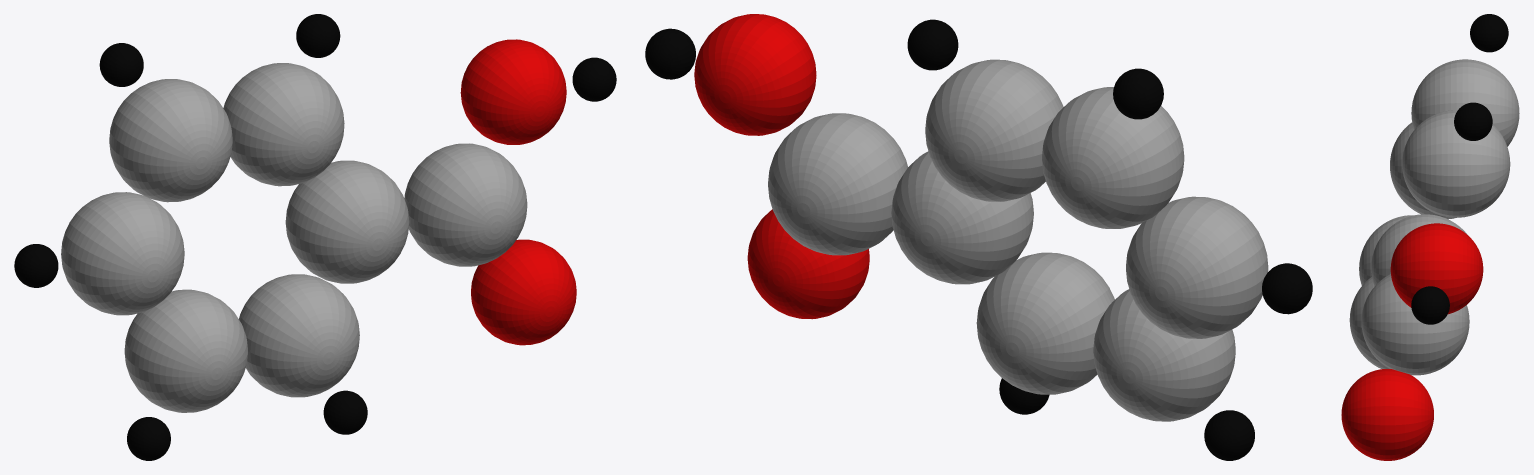
File: Benzoic Acid.glb
3 renders of one model, left to right at view 1: azimuth 30°, elevation 25°; view 2: azimuth 150°, elevation 25°; view 3: azimuth 270°, elevation 25°, orthographic. The views are drawn at different scales.
Visible parts, largest first — view 1: world; view 2: world; view 3: world.
Part boxes in pixels (left/top/right/bottom): world: left=14, top=14, right=616, bottom=460; world: left=645, top=14, right=1312, bottom=460; world: left=1341, top=14, right=1519, bottom=460.
Bounding box in the file's own units: 7.64 × 4.76 × 2.31.
